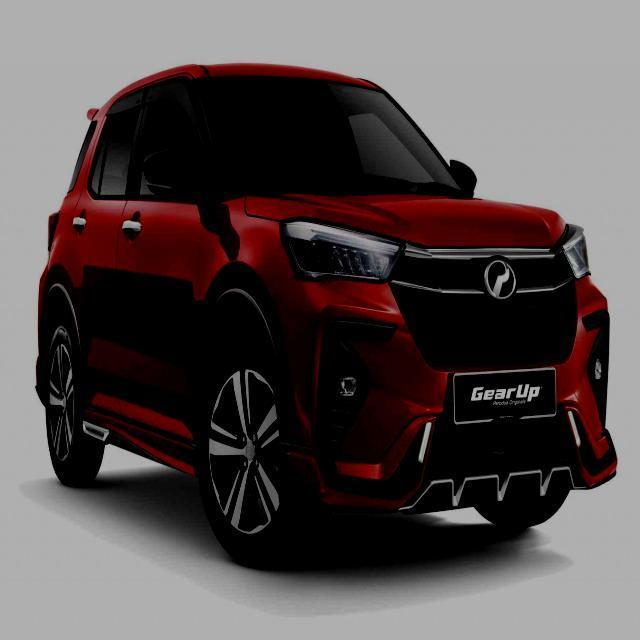PeroduaAtiva: (34, 61, 619, 570)
